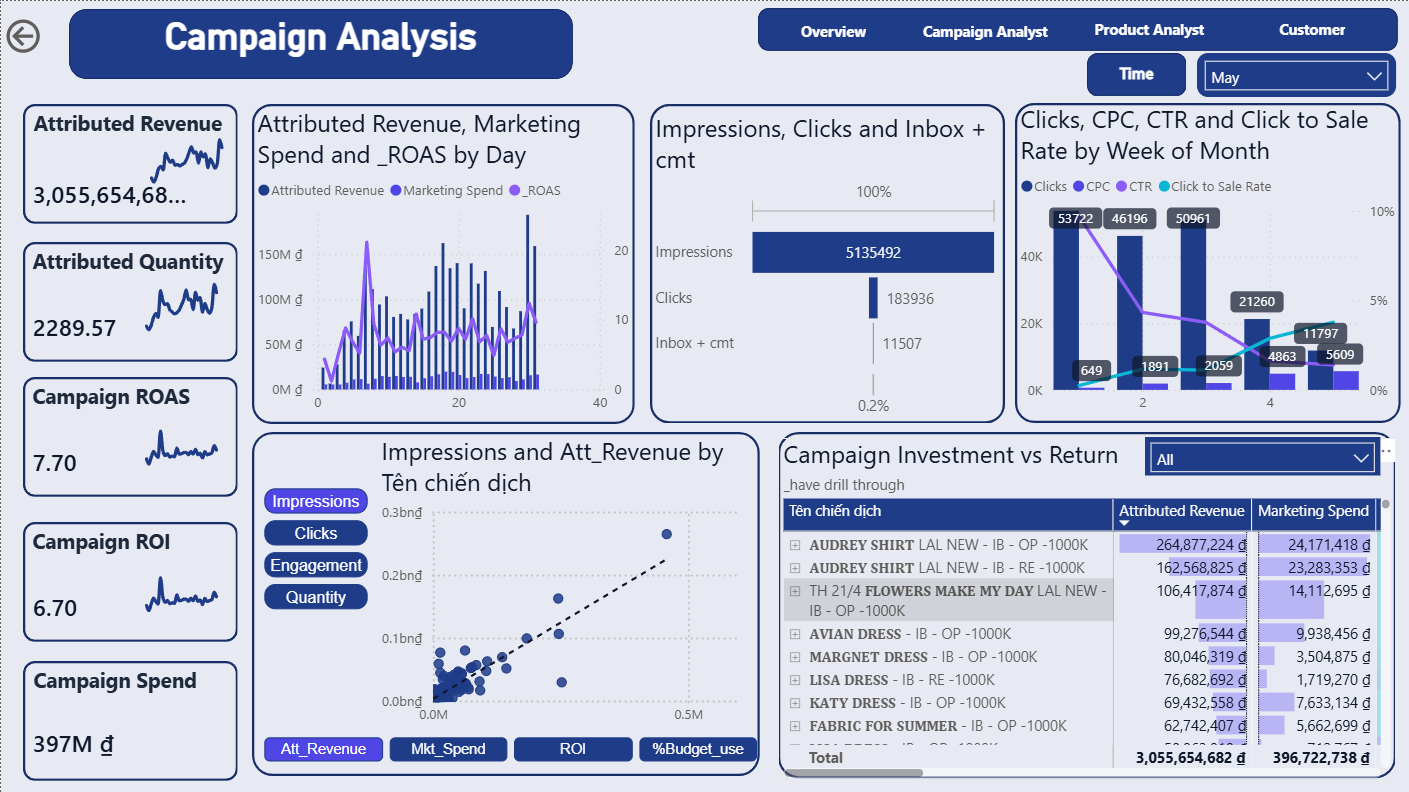

The page's visual inventory and layout, read from the dashboard file:
{"tool":"powerbi","page":{"name":"Campaign","canvas":[1280,720],"ordinal":1},"visuals":[{"type":"shape","box":[19.9,93.7,195.4,108.9],"z":0,"group":"g2"},{"type":"shape","box":[228.2,93.7,347.9,290.9],"z":0,"group":"g6"},{"type":"shape","box":[19.8,218.9,195.4,108.9],"z":0,"group":"g5"},{"type":"shape","box":[19.8,342,195.4,108.9],"z":0,"group":"g3"},{"type":"shape","box":[19.8,473.5,195.4,108.9],"z":0,"group":"g4"},{"type":"group","id":"g1","title":"Group 2","box":[0,598.8,215.6,109.8],"z":0},{"type":"shape","box":[20.3,599.7,195.4,108.9],"z":0,"group":"g1"},{"type":"shape","box":[688.4,6.3,581.6,38.9],"z":1000,"group":"g8"},{"type":"cardVisual","fields":{"Data":["measure.Attributed Revenue"]},"box":[0,141.5,208.1,63.6],"z":1000,"group":"g2"},{"type":"cardVisual","fields":{"Data":["measure.Attributed Quantity"]},"box":[0,262.2,153.9,64.7],"z":1000,"group":"g5"},{"type":"cardVisual","fields":{"Data":["measure.Campaign ROAS"]},"box":[0,385.3,153.9,64.7],"z":1000,"group":"g3"},{"type":"shape","box":[228.6,391.4,461.5,312.7],"z":1000},{"type":"cardVisual","fields":{"Data":["measure.Campaign ROI"]},"box":[0,516.8,153.9,64.7],"z":1000,"group":"g4"},{"type":"cardVisual","fields":{"Data":["measure.Marketing Spend"]},"box":[0,639.1,198.9,68.2],"z":1000,"group":"g1"},{"type":"group","id":"g2","title":"Group 2","box":[0,92.8,215.3,112.3],"z":2000},{"type":"textbox","box":[24.1,92.8,184.4,56.1],"z":2000,"group":"g2"},{"type":"textbox","box":[24,218,184.4,56.1],"z":2000,"group":"g5"},{"type":"textbox","box":[24,341.1,184.4,56.1],"z":2000,"group":"g3"},{"type":"textbox","box":[24,472.6,184.4,56.1],"z":2000,"group":"g4"},{"type":"textbox","box":[24.5,598.8,184.4,56.1],"z":2000,"group":"g1"},{"type":"lineChart","fields":{"Category":["dim_date.Day"],"Y":["measure.Attributed Revenue"]},"box":[117.4,115.8,93.6,65.1],"z":3000,"group":"g2"},{"type":"lineChart","fields":{"Category":["dim_date.Date.Variation.Date Hierarchy.Day"],"Y":["measure.Attributed Quantity"]},"box":[117.3,241,93.6,65.1],"z":3000,"group":"g5"},{"type":"group","id":"g3","title":"Group 2","box":[0,341.1,214.9,108.5],"z":3000},{"type":"lineChart","fields":{"Category":["dim_date.Date.Variation.Date Hierarchy.Day"],"Y":["measure.Campaign ROAS"]},"box":[117.3,364.1,93.6,65.1],"z":3000,"group":"g3"},{"type":"lineChart","fields":{"Category":["dim_date.Date.Variation.Date Hierarchy.Day"],"Y":["measure.Campaign ROI"]},"box":[117.3,495.6,93.6,65.1],"z":3000,"group":"g4"},{"type":"actionButton","box":[832.9,11.3,124.4,30.1],"z":4000,"group":"g8"},{"type":"group","id":"g4","title":"Group 2","box":[0,472.6,214.9,109.5],"z":4000},{"type":"group","id":"g5","title":"Group 2","box":[0,218,214.9,110.6],"z":5000},{"type":"actionButton","box":[982.3,10.1,124.4,30.1],"z":6000,"group":"g8"},{"type":"group","id":"g6","title":"Group 3","box":[228.2,93.7,347.8,291.2],"z":6000},{"type":"actionButton","box":[0,11.8,61.9,40.3],"z":7000},{"type":"actionButton","box":[1130.6,10.1,124.4,30.1],"z":8000,"group":"g8"},{"type":"shape","box":[922,92.8,350.5,290.8],"z":8000,"group":"g7"},{"type":"shape","box":[706.3,391.4,561.8,314.9],"z":8000},{"type":"shape","box":[61.5,7.4,458.2,63.6],"z":9000},{"type":"pivotTable","title":"Campaign Investment vs Return","fields":{"Values":["measure.Attributed Revenue","measure.Marketing Spend","measure._ROAS","measure.Budget Utilization %","measure.Impressions","measure.Clicks","measure.CTR","measure.Engagement","measure._CPM","measure.Cost per Ib+Cmt","measure.Cost per Engagement"],"Rows":["dim_mkt_camp_cost.Tên chiến dịch","dim_product.Danh mục"]},"box":[706.3,396.8,561.8,313.8],"z":10000},{"type":"lineClusteredColumnComboChart","fields":{"Category":["dim_date.Week of Month"],"Y":["measure.Clicks","measure.CPC"],"Y2":["measure.CTR","measure.Click to Attributed Sale Rate"]},"box":[922,92.8,350.5,290.8],"z":11000,"group":"g7"},{"type":"lineClusteredColumnComboChart","fields":{"Category":["dim_date.Week of Month","dim_date.Day"],"Y":["measure.Attributed Revenue","measure.Marketing Spend"],"Y2":["measure._ROAS"]},"box":[228.2,96.3,347.5,286.8],"z":11000},{"type":"textbox","box":[49.7,7.4,481.8,63.6],"z":12000},{"type":"scatterChart","fields":{"X":["measure.Impressions"],"Y":["measure.Attributed Revenue"],"Category":["dim_mkt_camp_cost.Tên chiến dịch"]},"box":[340.8,394.7,349.4,271.7],"z":13000},{"type":"shape","box":[589.9,93.7,322.8,290.3],"z":14000},{"type":"funnel","fields":{"Y":["measure.Impressions","Sum(fact_mkt_camp_by_sku_cost.Click Theo AM)","Sum(fact_mkt_camp_by_sku_cost. Inbox + CommentsTheo AM)"]},"box":[589.9,101.1,322.8,282],"z":15000},{"type":"group","id":"g7","title":"Group 3","box":[922,92.8,350.6,290.3],"z":16000},{"type":"slicer","fields":{"Values":["metric .metric "]},"box":[1039.7,396.7,214,35],"z":17000},{"type":"ChicletSlicer1448559807354","fields":{"Category":["Parameter_2.Parameter_2"]},"box":[236.1,439.9,104.4,188.9],"z":18000},{"type":"ChicletSlicer1448559807354","fields":{"Category":["Parameter_3.Parameter_3"]},"box":[236.2,666.4,454,37.7],"z":19000},{"type":"slicer","fields":{"Values":["dim_date.Month Short","dim_date.Week of Month Label","dim_date.Day"]},"box":[1087.2,47.5,180.9,40.3],"z":20000},{"type":"shape","box":[986.9,47.5,90.4,39.4],"z":21000},{"type":"textbox","box":[986.9,51.9,90.4,29.6],"z":22000},{"type":"group","id":"g8","title":"Group 4","box":[688.4,6.3,581.6,38.9],"z":23000},{"type":"actionButton","box":[694.7,11.3,124.4,30.1],"z":29000,"group":"g8"}]}

Visuals, with their boxes in screenshot pixels (x1, y1, x2, y2), scaled from the page's 1280x720 canvas onto the 1409x792 screenshot:
shape: box(22, 103, 237, 223)
shape: box(251, 103, 634, 423)
shape: box(22, 241, 237, 361)
shape: box(22, 376, 237, 496)
shape: box(22, 521, 237, 641)
"Group 2" group: box(0, 659, 237, 779)
shape: box(22, 660, 237, 779)
shape: box(758, 7, 1398, 50)
cardVisual - measure.Attributed Revenue: box(0, 156, 229, 226)
cardVisual - measure.Attributed Quantity: box(0, 288, 169, 360)
cardVisual - measure.Campaign ROAS: box(0, 424, 169, 495)
shape: box(252, 431, 760, 775)
cardVisual - measure.Campaign ROI: box(0, 568, 169, 640)
cardVisual - measure.Marketing Spend: box(0, 703, 219, 778)
"Group 2" group: box(0, 102, 237, 226)
textbox: box(27, 102, 230, 164)
textbox: box(26, 240, 229, 302)
textbox: box(26, 375, 229, 437)
textbox: box(26, 520, 229, 582)
textbox: box(27, 659, 230, 720)
lineChart - dim_date.Day x measure.Attributed Revenue: box(129, 127, 232, 199)
lineChart - dim_date.Date.Variation.Date Hierarchy.Day x measure.Attributed Quantity: box(129, 265, 232, 337)
"Group 2" group: box(0, 375, 237, 495)
lineChart - dim_date.Date.Variation.Date Hierarchy.Day x measure.Campaign ROAS: box(129, 401, 232, 472)
lineChart - dim_date.Date.Variation.Date Hierarchy.Day x measure.Campaign ROI: box(129, 545, 232, 617)
actionButton: box(917, 12, 1054, 46)
"Group 2" group: box(0, 520, 237, 640)
"Group 2" group: box(0, 240, 237, 361)
actionButton: box(1081, 11, 1218, 44)
"Group 3" group: box(251, 103, 634, 423)
actionButton: box(0, 13, 68, 57)
actionButton: box(1245, 11, 1381, 44)
shape: box(1015, 102, 1401, 422)
shape: box(777, 431, 1396, 777)
shape: box(68, 8, 572, 78)
"Campaign Investment vs Return" pivotTable: box(777, 436, 1396, 782)
lineClusteredColumnComboChart - dim_date.Week of Month x measure.Clicks: box(1015, 102, 1401, 422)
lineClusteredColumnComboChart - dim_date.Week of Month x dim_date.Day: box(251, 106, 634, 421)
textbox: box(55, 8, 585, 78)
scatterChart - measure.Impressions x measure.Attributed Revenue: box(375, 434, 760, 733)
shape: box(649, 103, 1005, 422)
funnel - measure.Impressions x Sum(fact_mkt_camp_by_sku_cost.Click Theo AM): box(649, 111, 1005, 421)
"Group 3" group: box(1015, 102, 1401, 421)
slicer - metric .metric : box(1144, 436, 1380, 475)
ChicletSlicer1448559807354 - Parameter_2.Parameter_2: box(260, 484, 375, 692)
ChicletSlicer1448559807354 - Parameter_3.Parameter_3: box(260, 733, 760, 775)
slicer - dim_date.Month Short x dim_date.Week of Month Label: box(1197, 52, 1396, 97)
shape: box(1086, 52, 1186, 96)
textbox: box(1086, 57, 1186, 90)
"Group 4" group: box(758, 7, 1398, 50)
actionButton: box(765, 12, 902, 46)
